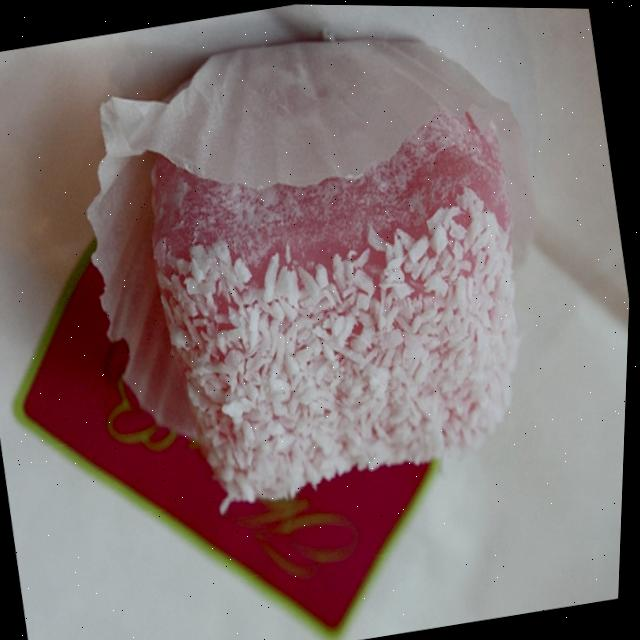蛋糕甜品: (80, 1, 574, 537)
